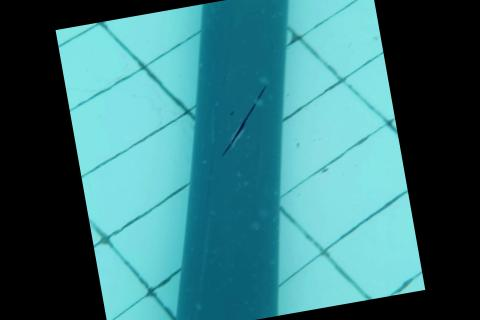keretakan: (210, 83, 278, 156)
